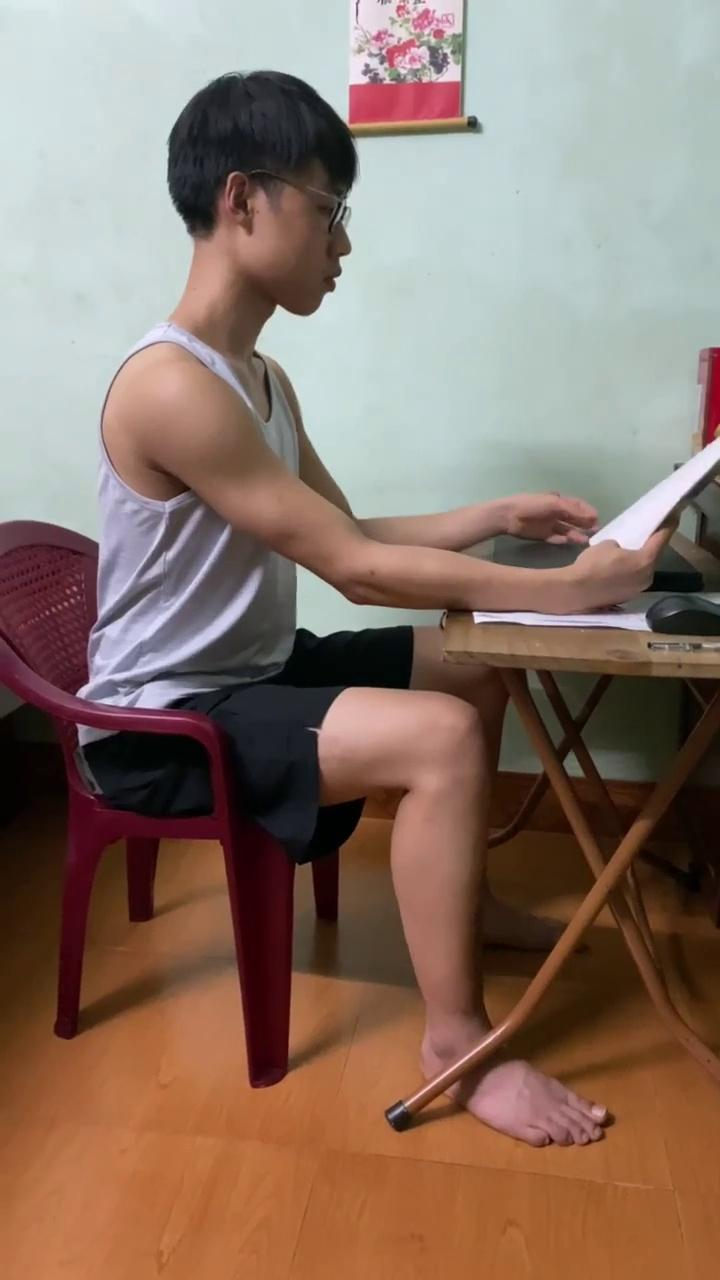GoodPosture: (78, 72, 668, 1073)
